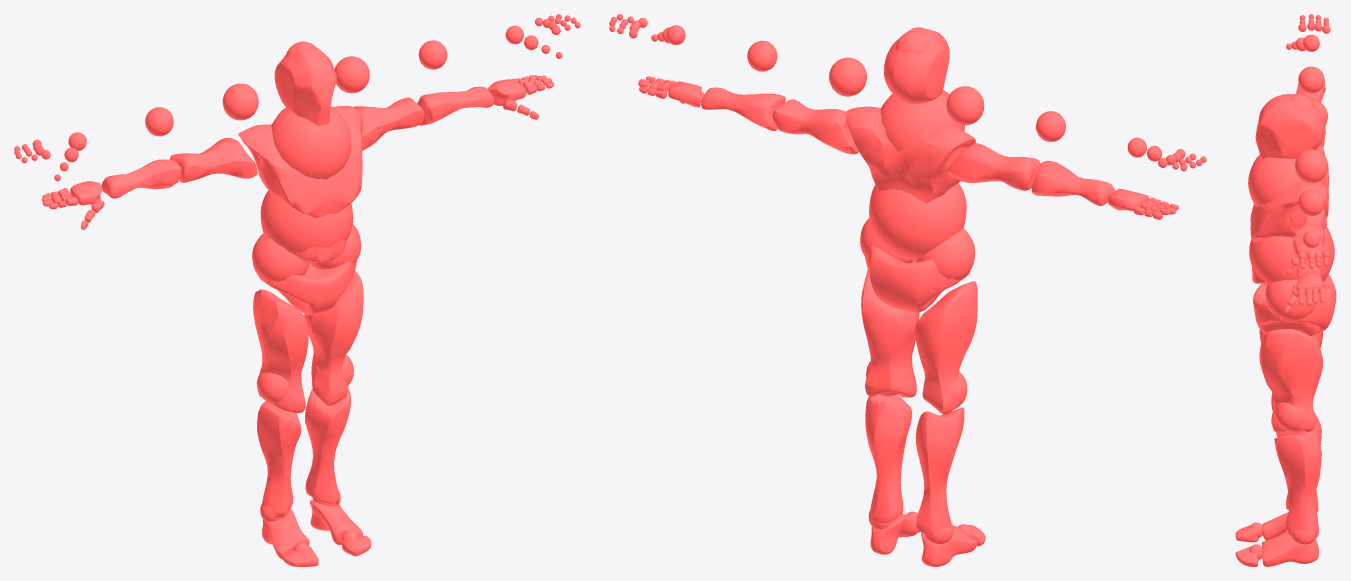
3 views of the same model, side by side, from view 1: azimuth 30°, elevation 25°; view 2: azimuth 150°, elevation 25°; view 3: azimuth 270°, elevation 25° (orthographic). The views are drawn at different scales.
Parts seen in each view (by area): view 1: Alpha_Surface, Alpha_Joints; view 2: Alpha_Surface, Alpha_Joints; view 3: Alpha_Surface, Alpha_Joints.
Part boxes in pixels (bbox=[...]): Alpha_Surface: bbox=[41, 46, 554, 566]; Alpha_Joints: bbox=[14, 14, 580, 552]; Alpha_Surface: bbox=[638, 27, 1178, 566]; Alpha_Joints: bbox=[609, 14, 1206, 543]; Alpha_Surface: bbox=[1235, 80, 1336, 566]; Alpha_Joints: bbox=[1248, 14, 1334, 559].
Bounding box in the file's own units: 2.14 × 1.81 × 0.3635.
